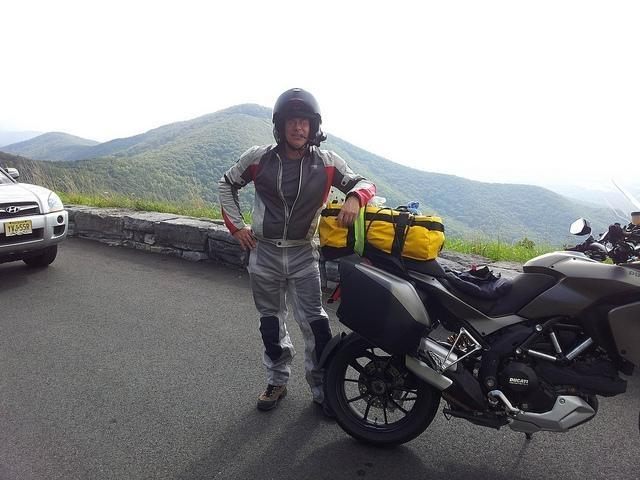car: (0, 164, 70, 264)
motorcycle: (320, 223, 640, 449)
